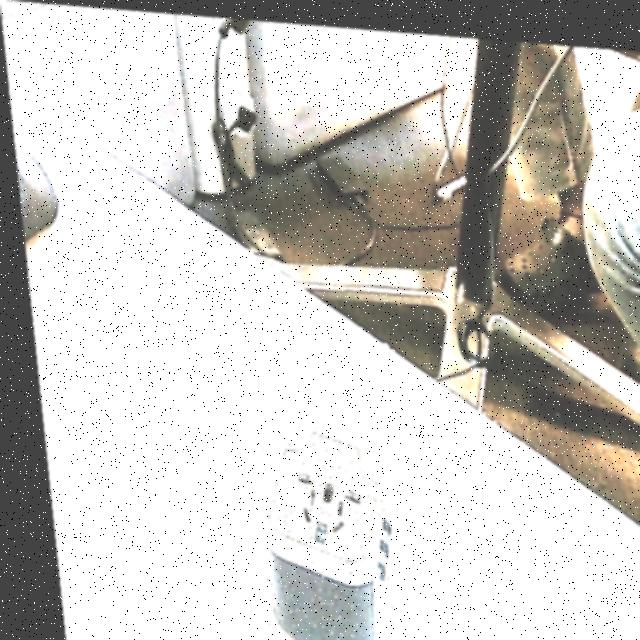adapter: (239, 415, 392, 640)
